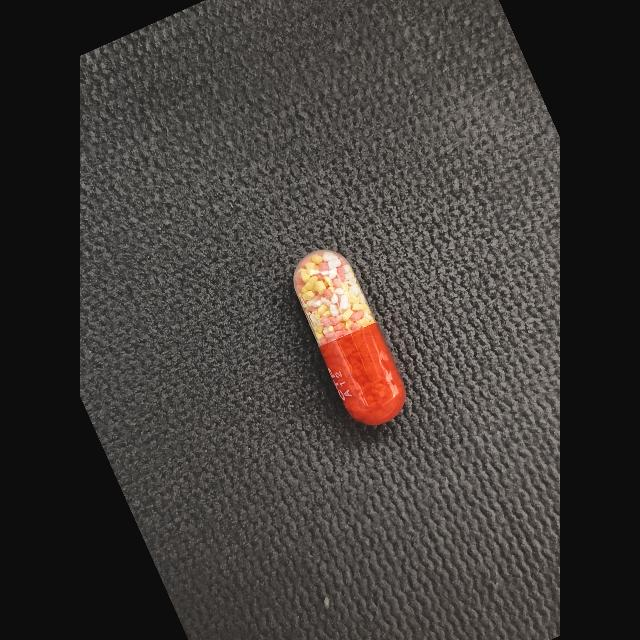Intact Capsule: (294, 250, 406, 425)
